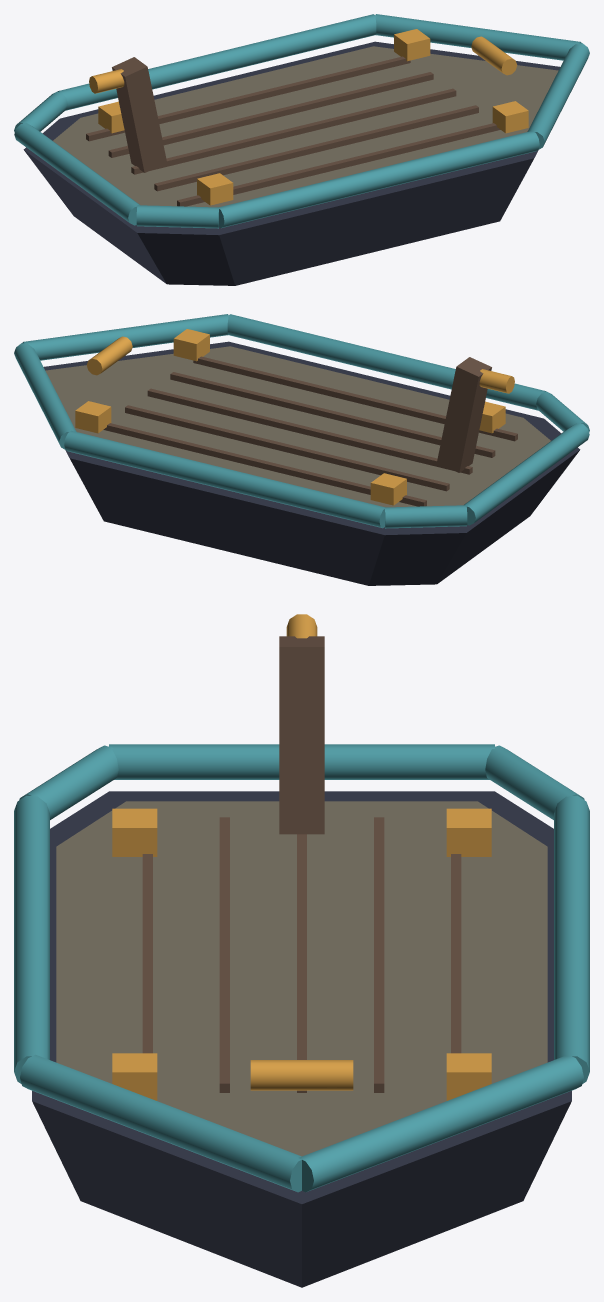
The model's file is river_barge.glb.
3 views of the same model, one above another, from view 1: azimuth 30°, elevation 25°; view 2: azimuth 150°, elevation 25°; view 3: azimuth 270°, elevation 25° (orthographic). The views are drawn at different scales.
Parts seen in each view (by area): view 1: river_barge weathered_wood, river_barge ink, river_barge copper, river_barge wood, river_barge ochre; view 2: river_barge weathered_wood, river_barge ink, river_barge copper, river_barge wood, river_barge ochre; view 3: river_barge weathered_wood, river_barge copper, river_barge ink, river_barge wood, river_barge ochre.
Boxes of the visible parts, bbox=[...] form: river_barge weathered_wood: bbox=[53, 46, 558, 207]; river_barge ink: bbox=[23, 41, 560, 285]; river_barge copper: bbox=[14, 14, 589, 228]; river_barge wood: bbox=[86, 56, 500, 206]; river_barge ochre: bbox=[89, 29, 528, 205]; river_barge weathered_wood: bbox=[45, 346, 550, 507]; river_barge ink: bbox=[43, 341, 580, 585]; river_barge copper: bbox=[14, 314, 589, 528]; river_barge wood: bbox=[103, 356, 517, 506]; river_barge ochre: bbox=[75, 329, 514, 505]; river_barge weathered_wood: bbox=[56, 801, 547, 1156]; river_barge copper: bbox=[14, 744, 589, 1192]; river_barge ink: bbox=[32, 791, 571, 1287]; river_barge wood: bbox=[142, 636, 461, 1092]; river_barge ochre: bbox=[112, 614, 491, 1100].
Size of the model in its own units: 0.7844 by 0.267 by 0.448.
